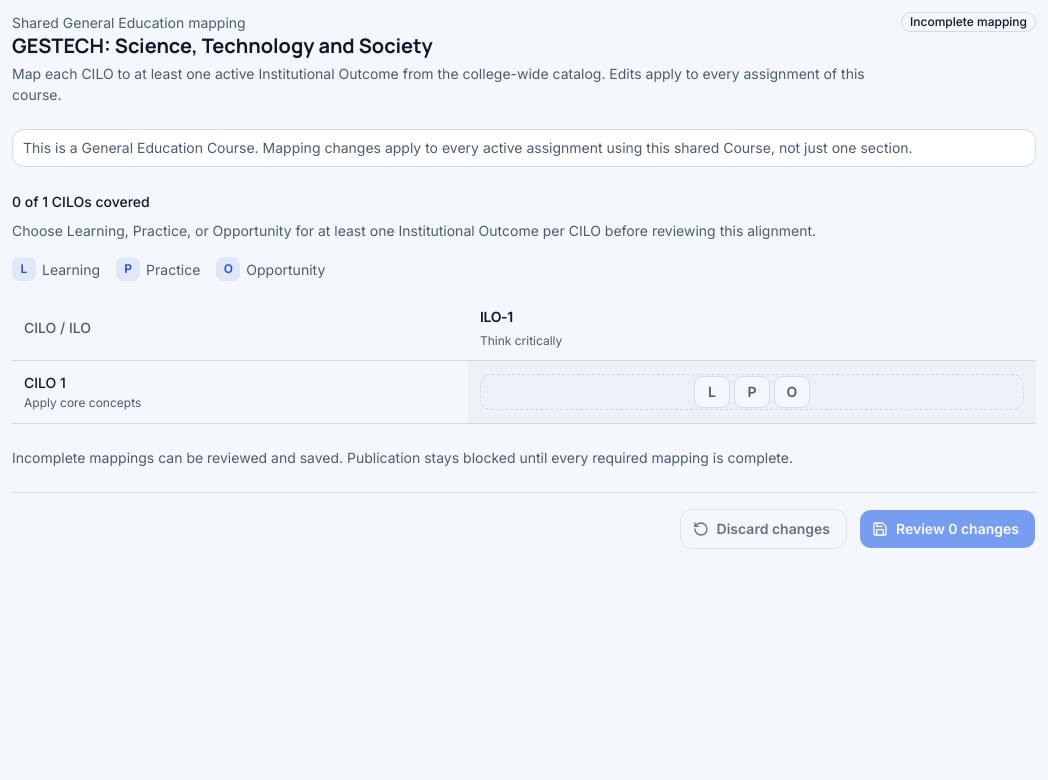
Scenario: CourseAlignmentEditor › preserves a stale draft and offers reload after a failed review
What coordinates should you click on to do the following:
click the button named "CILO 1, ILO 1, manifestation: Learning"
I would click on:
 (712, 392)
Its box is [694,376,730,408].
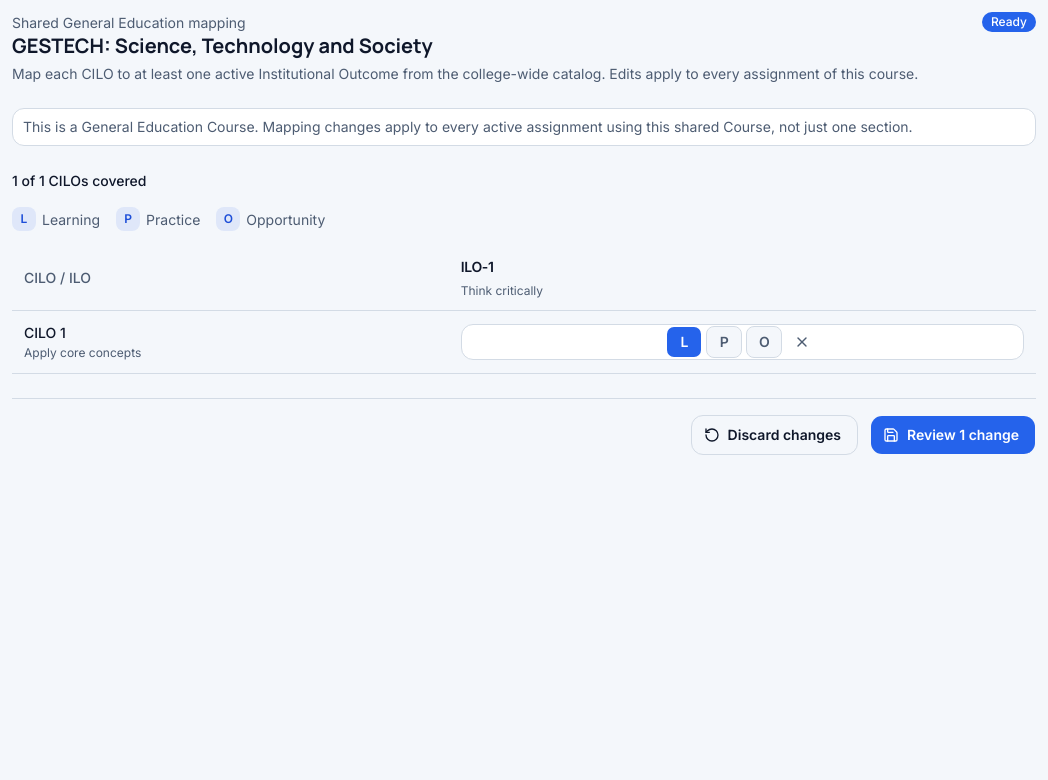
What coordinates should you click on to do the following:
click the button "Review 1 change"
I would click on:
 (953, 434)
Its box is [870,414,1036,454].
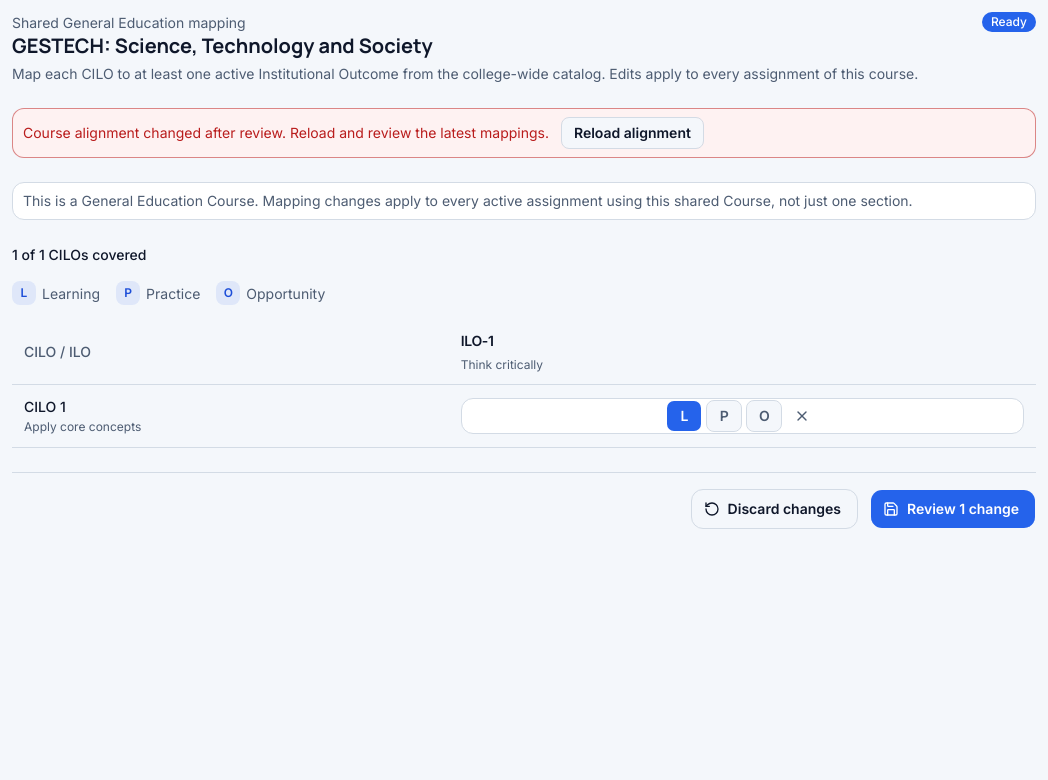
Expected: the text "Course alignment changed after review. Reload and review the latest mappings." is shown, [23,123,549,143]
Expected: the button "Reload alignment" is enabled, [561,117,704,149]
